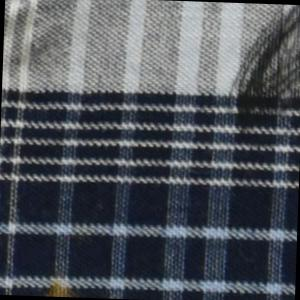Oil Stain: (45, 280, 81, 299)
Stain: (225, 3, 300, 129), (4, 1, 75, 78)
